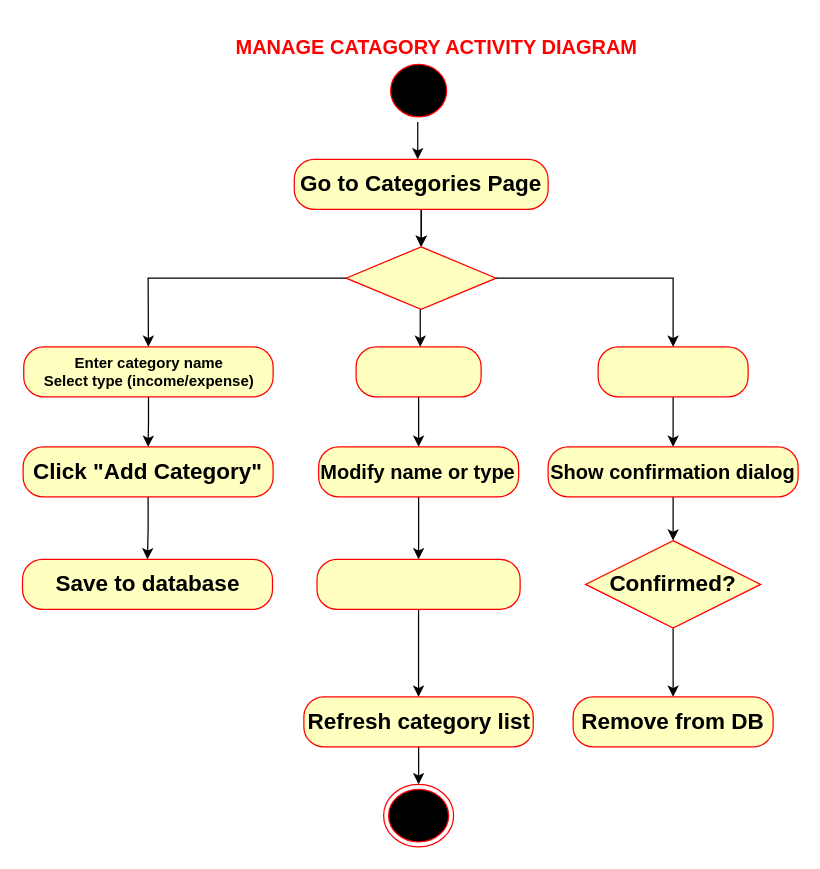
Image size: 820x869. Some labels were removed from this diagram. Each missing label, with the centre of its shape:
Action?: [420,277]
Click "Delete": [672,371]
Click "Edit": [418,371]
Save changes: [418,583]
